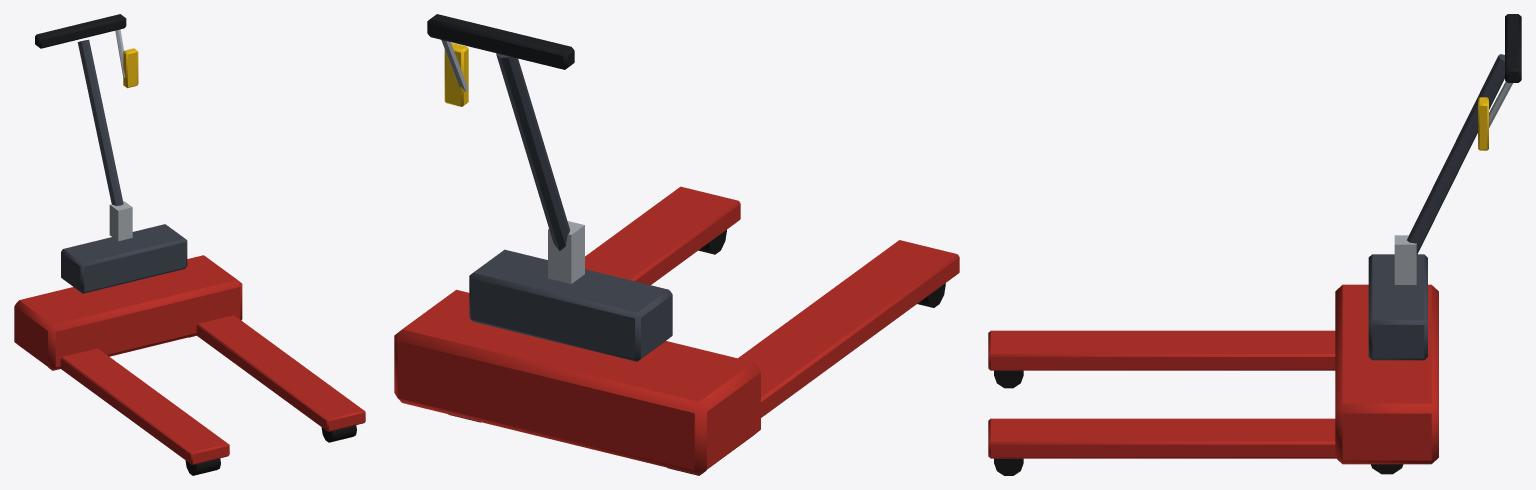
The model's file is loader_hand_pallet_jack.glb.
3 views of the same model, side by side, from view 1: azimuth 30°, elevation 25°; view 2: azimuth 150°, elevation 25°; view 3: azimuth 270°, elevation 25° (orthographic). The views are drawn at different scales.
Parts seen in each view (by area): view 1: loader_hand_pallet_jack; view 2: loader_hand_pallet_jack; view 3: loader_hand_pallet_jack.
Boxes of the visible parts, x1,y1,x2,y2 form: loader_hand_pallet_jack: (14,14,365,475); loader_hand_pallet_jack: (394,14,959,475); loader_hand_pallet_jack: (988,14,1521,475).
Bounding box in the file's own units: 0.8 × 1.14 × 1.44.
